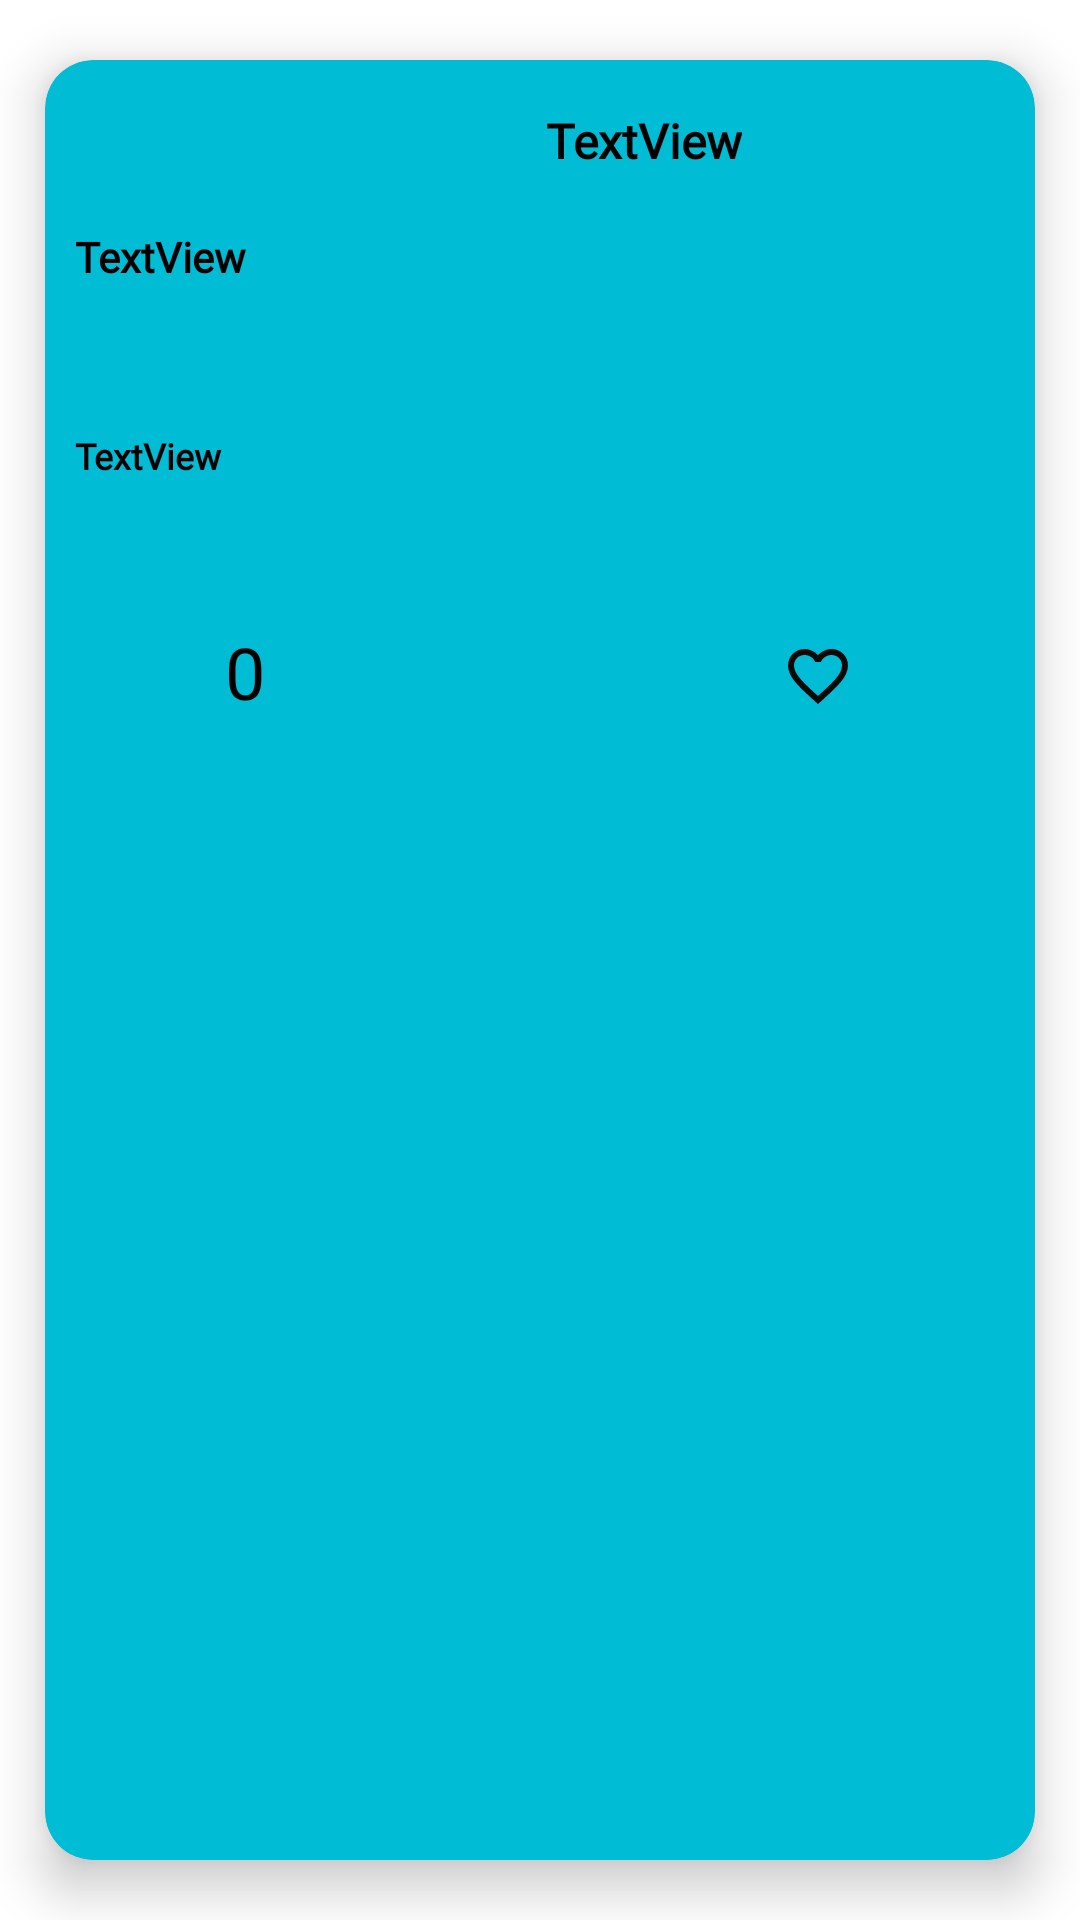

Locate icon controls on the screen. Image size 1080 x 1920, boxes as {"left": x1, "top": y1, "right": x2, "bottom": y2}.
like uno: {"left": 788, "top": 649, "right": 848, "bottom": 704}
